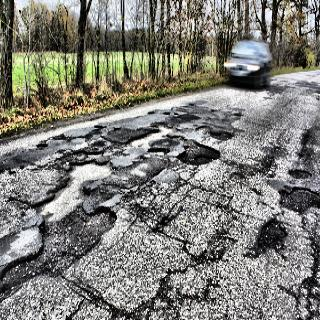pothole: (3, 142, 141, 292), (128, 119, 264, 204), (239, 216, 305, 278), (270, 171, 320, 216)
